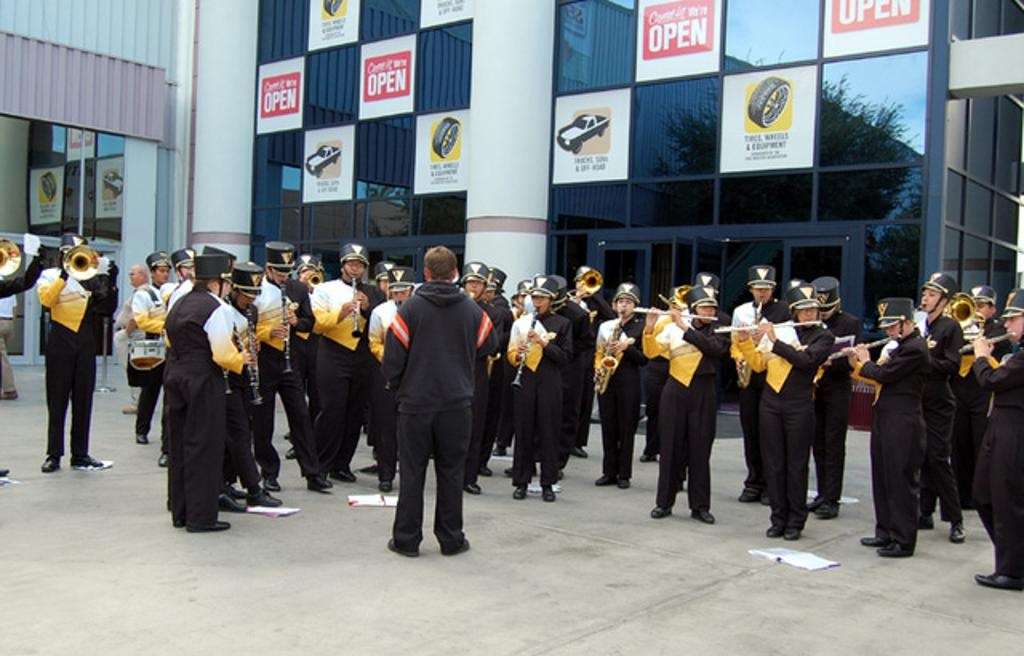human_face: (1004, 308, 1022, 342), (234, 286, 256, 308), (920, 286, 940, 310), (300, 266, 320, 288), (344, 256, 364, 278), (796, 304, 816, 326), (884, 318, 904, 340), (970, 298, 990, 320), (391, 285, 411, 305), (696, 303, 716, 323), (465, 276, 483, 296), (616, 296, 634, 316), (212, 276, 226, 300), (752, 284, 770, 302), (816, 302, 834, 320), (182, 262, 198, 280), (380, 277, 396, 295), (532, 294, 548, 312), (155, 264, 169, 282), (272, 267, 286, 285), (130, 266, 142, 284)
